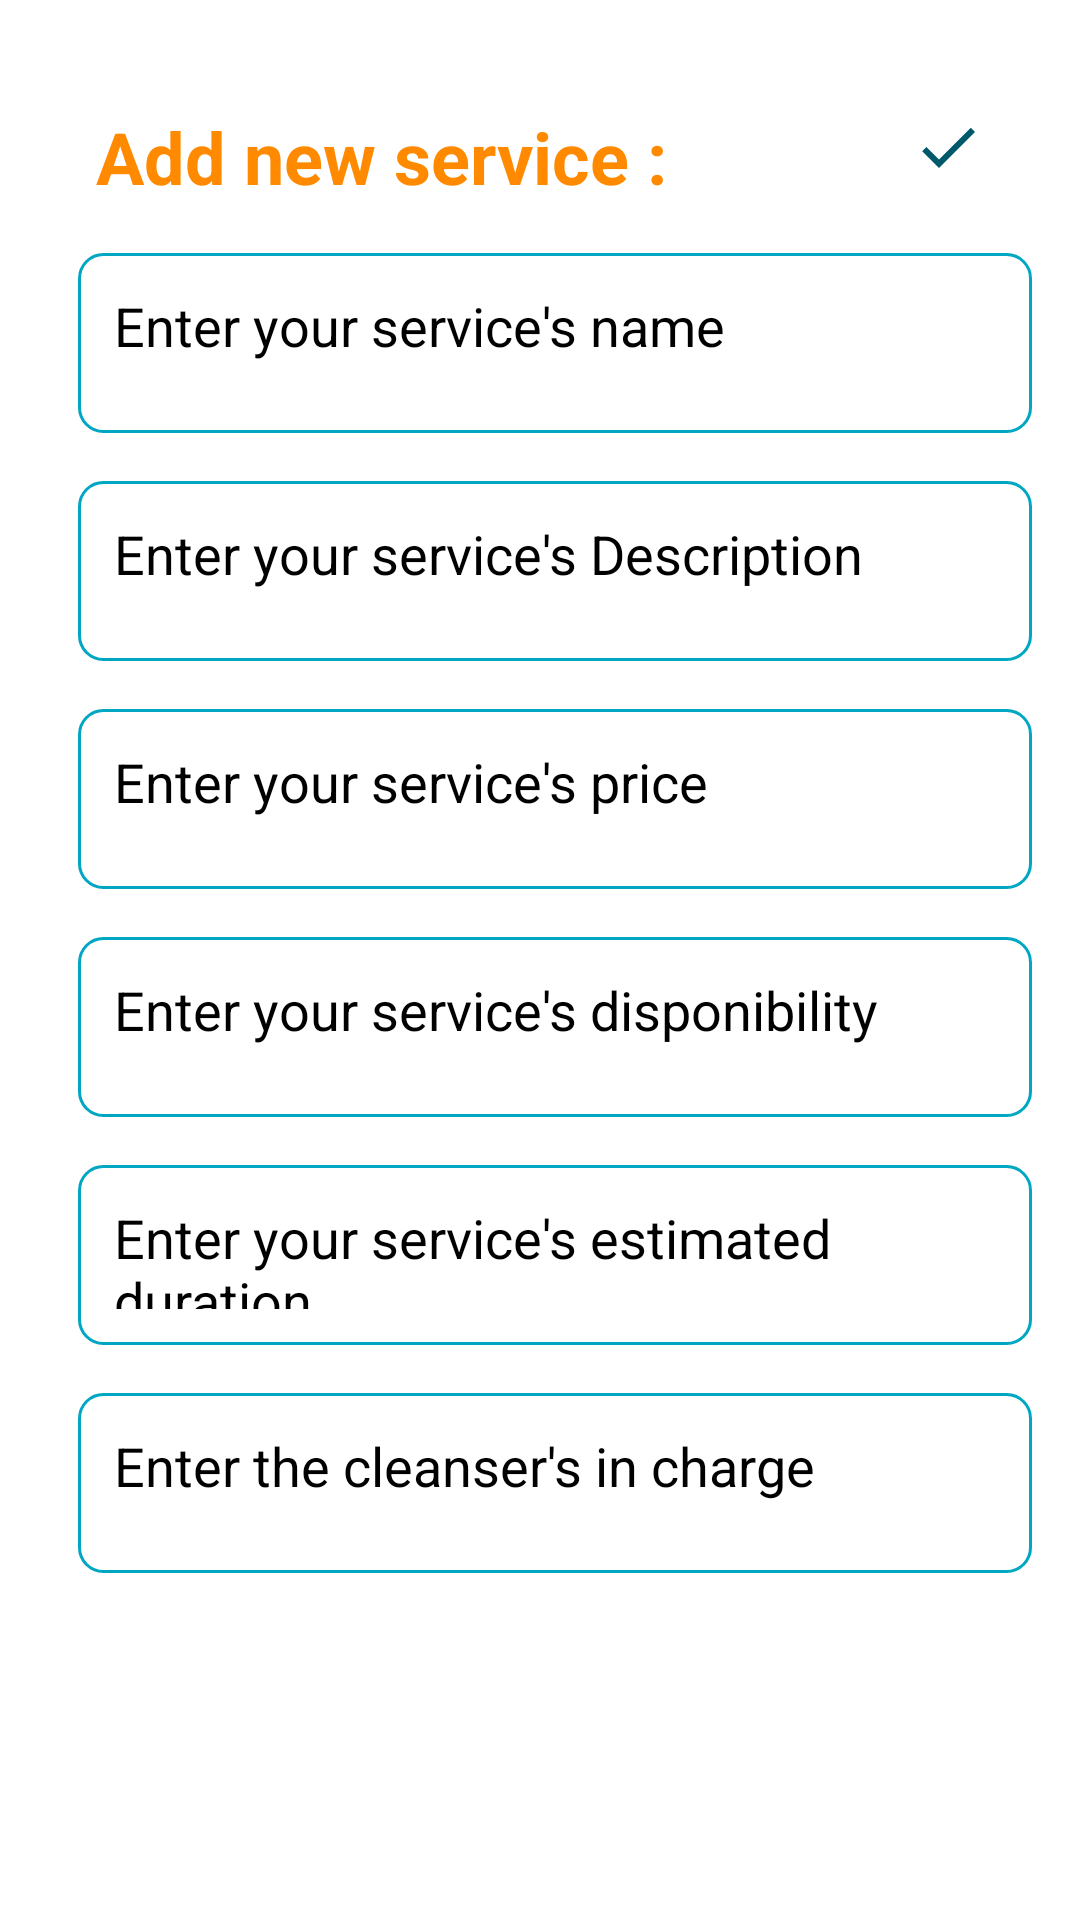

Where to tap for icons on this 1080 x 1920 app screen, as (x=x, y=y):
done: (x=948, y=148)
